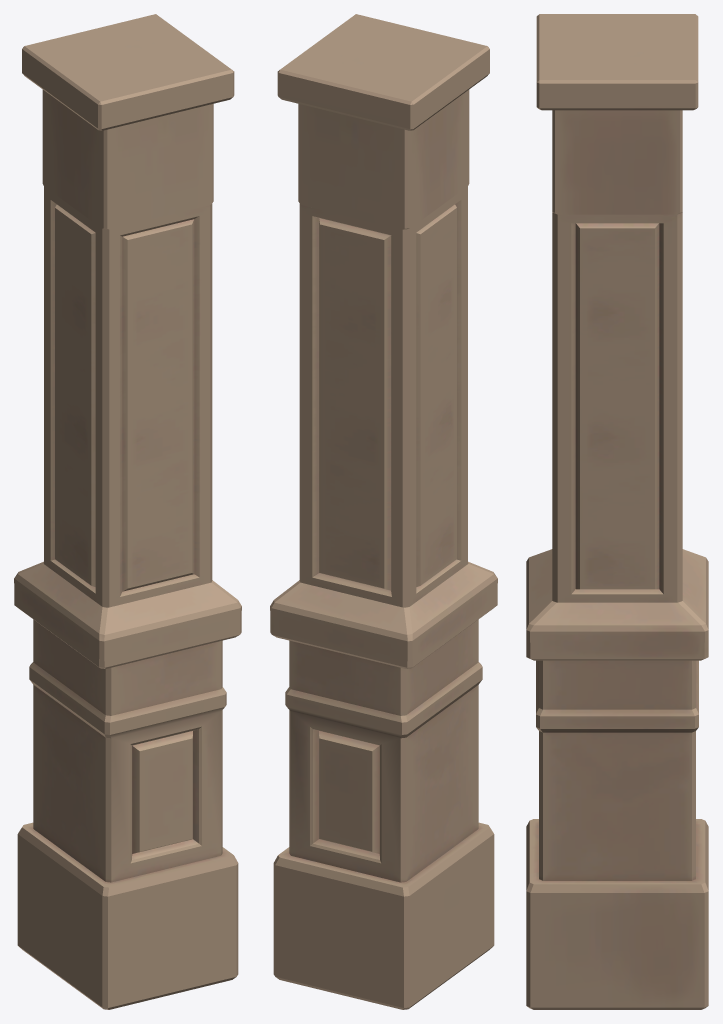
File: ColumnFull (18).fbx
The picture shows the model from 3 angles, left to right: view 1: azimuth 30°, elevation 25°; view 2: azimuth 150°, elevation 25°; view 3: azimuth 270°, elevation 25°; orthographic projection. The views are drawn at different scales.
Visible parts, largest first — view 1: ColumnFull (18), column2Middle1, column2Top; view 2: ColumnFull (18), column2Middle1, column2Top; view 3: ColumnFull (18), column2Middle1, column2Top.
Boxes of the visible parts, x1=… form: ColumnFull (18): x1=14, y1=561, x2=241, y2=1009; column2Middle1: x1=44, y1=186, x2=212, y2=607; column2Top: x1=22, y1=14, x2=234, y2=229; ColumnFull (18): x1=270, y1=561, x2=497, y2=1009; column2Middle1: x1=299, y1=186, x2=467, y2=607; column2Top: x1=277, y1=14, x2=489, y2=229; ColumnFull (18): x1=526, y1=549, x2=708, y2=1009; column2Middle1: x1=552, y1=212, x2=682, y2=602; column2Top: x1=536, y1=14, x2=698, y2=214.
Size of the model in its own units: 197 by 1197 by 213.
